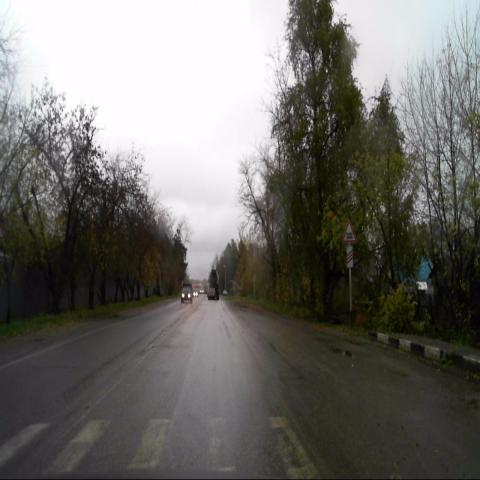1_1: (342, 220, 357, 243)
